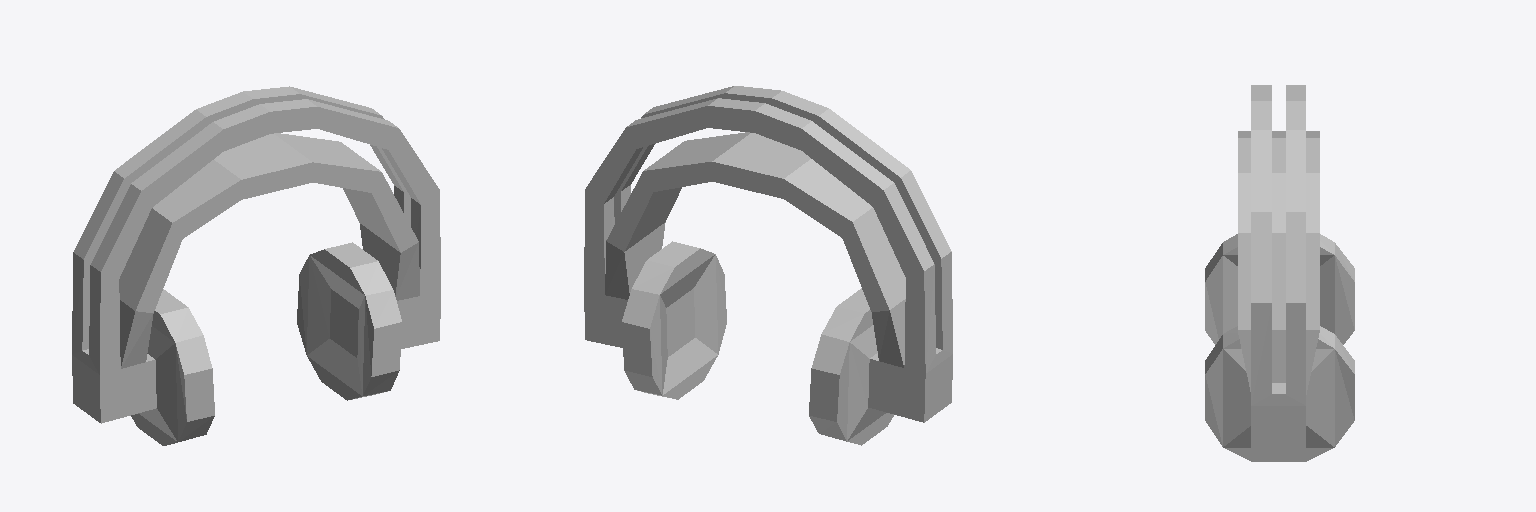
The model's file is Headphones.obj.
3 views of the same model, side by side, from view 1: azimuth 30°, elevation 25°; view 2: azimuth 150°, elevation 25°; view 3: azimuth 270°, elevation 25° (orthographic).
Visible parts, largest first — view 1: HeadphonesMesh; view 2: HeadphonesMesh; view 3: HeadphonesMesh.
Boxes of the visible parts, box(x1,y1,x2,y2) form: HeadphonesMesh: box(72, 86, 440, 445); HeadphonesMesh: box(584, 86, 952, 445); HeadphonesMesh: box(1205, 85, 1354, 461).
Size of the model in its own units: 4.78 by 4.14 by 1.81.